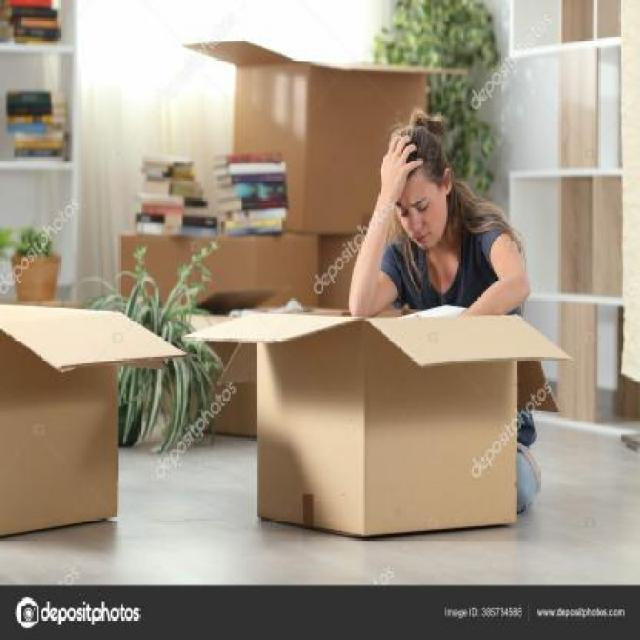box: (206, 309, 558, 536), (195, 32, 442, 218), (0, 305, 159, 532)
